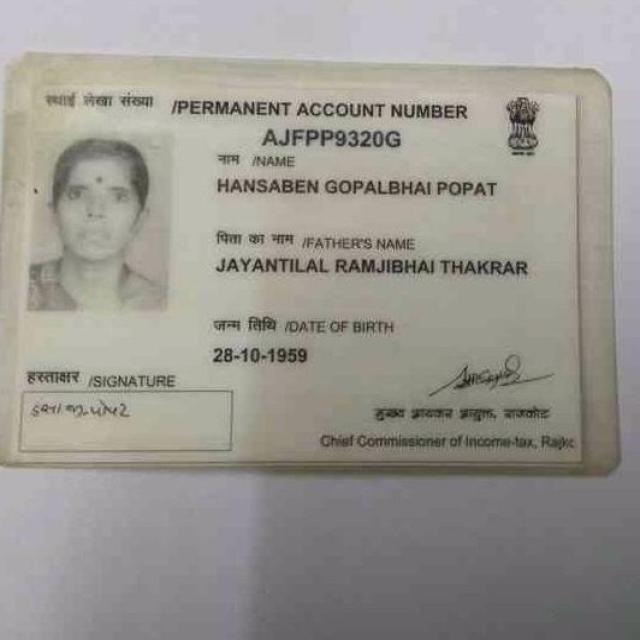pan_card: (0, 79, 587, 463)
